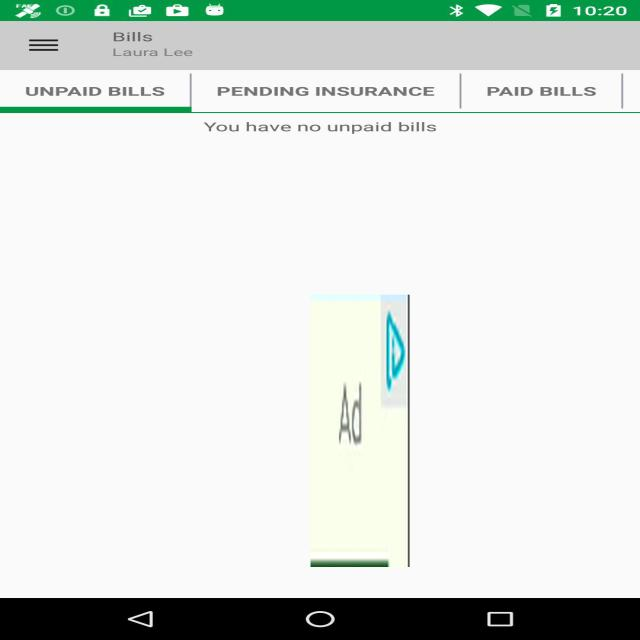sneaking: (310, 295, 410, 567)
